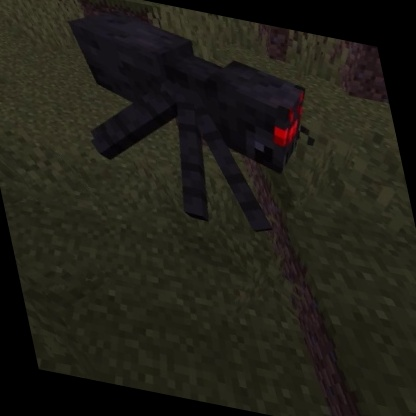spider: (54, 0, 345, 255)
